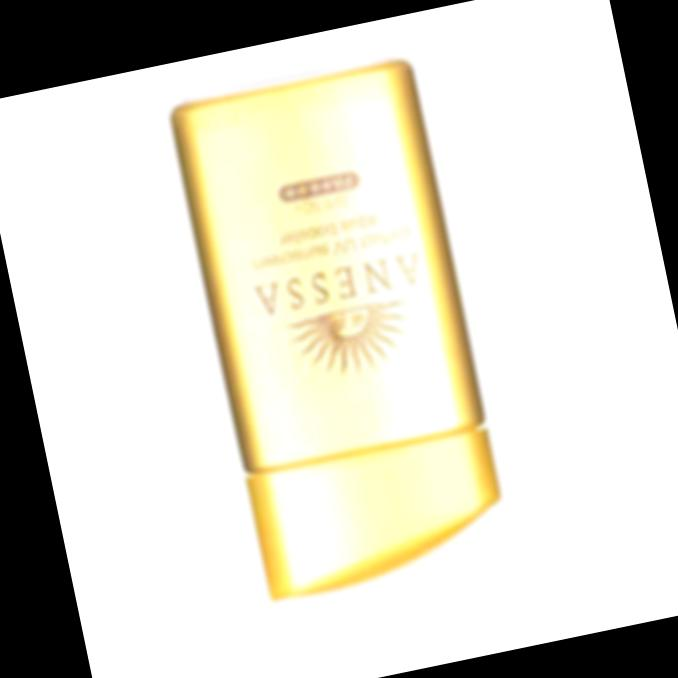cosmetic: (167, 59, 518, 605)
